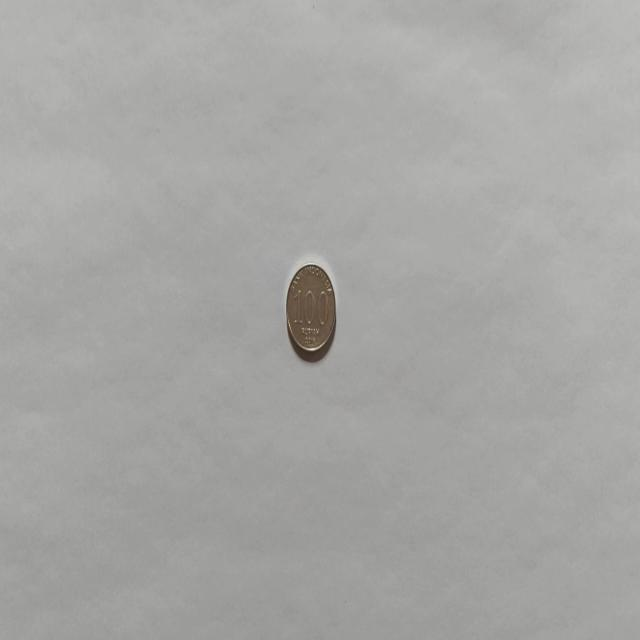seratus rupiah: (284, 262, 336, 358)
